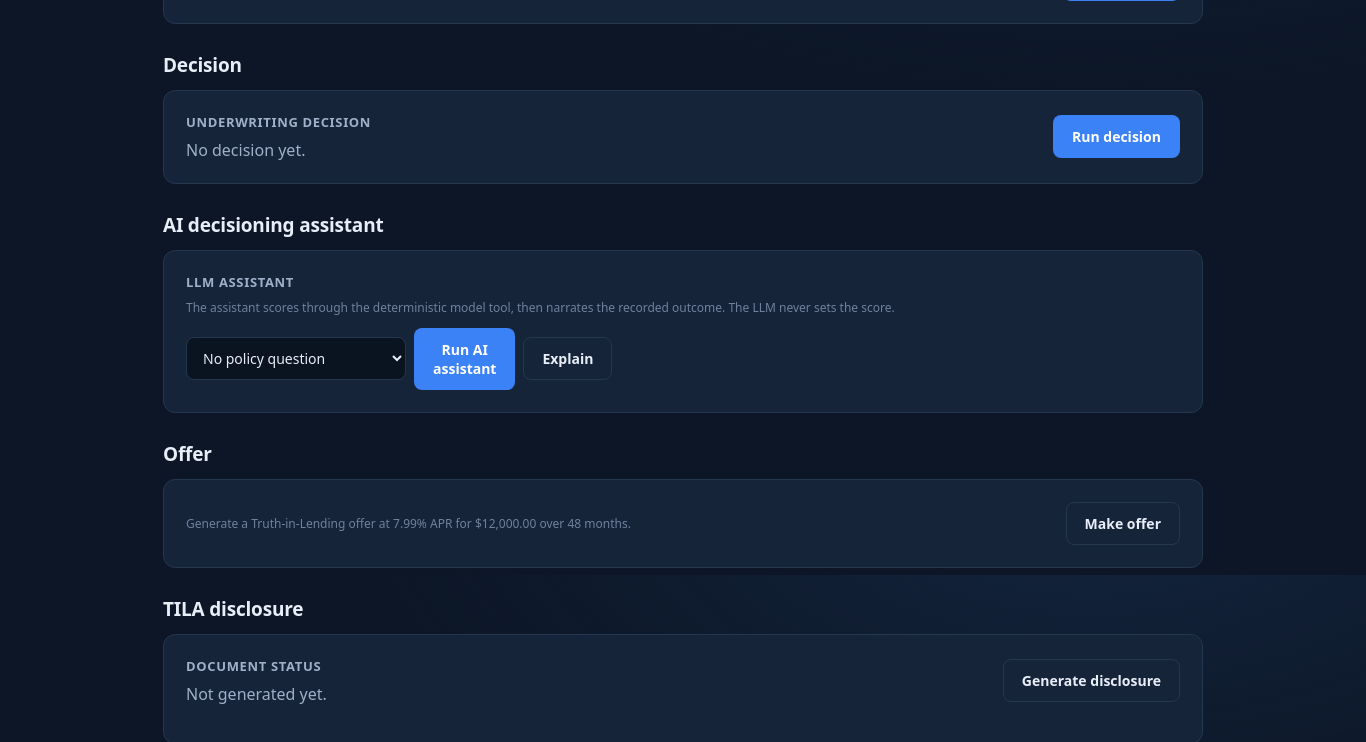
Test: underwriting detail — assistant panel › clears the assistant card once a manual decision supersedes it
(page scrolled)
// Explain populates the assistant card from the recorded decision.
What coordinates should you click on to do the following:
click the button "Explain"
I would click on:
 (568, 358)
Its box is [523,337,612,380].
(page scrolled)
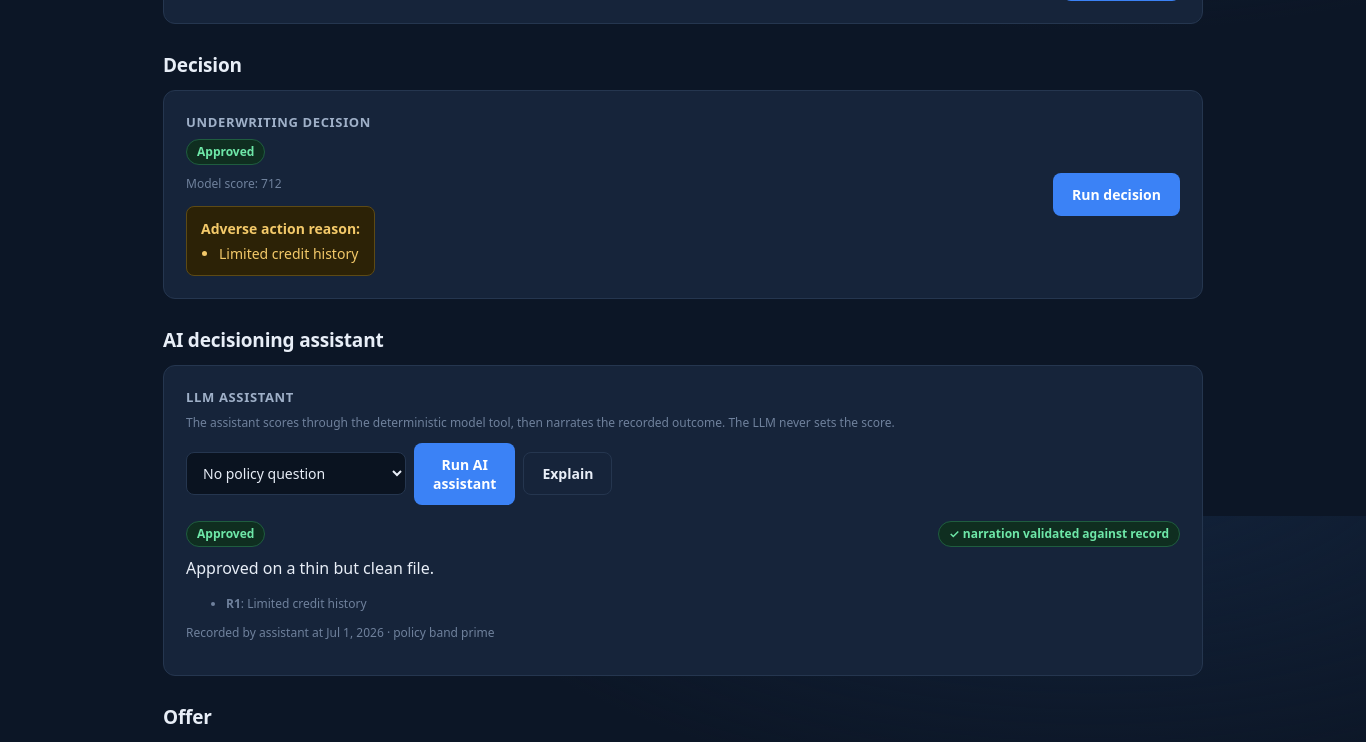
Expected: the text "Approved on a thin but clean file." is shown, [186,556,434,578]
// A manual decision records a NEW event, so the card now describes a superseded one.
What coordinates should you click on to do the following:
click the button "Run decision"
I would click on:
 (1116, 194)
Its box is [1053,172,1180,216].
(page scrolled)
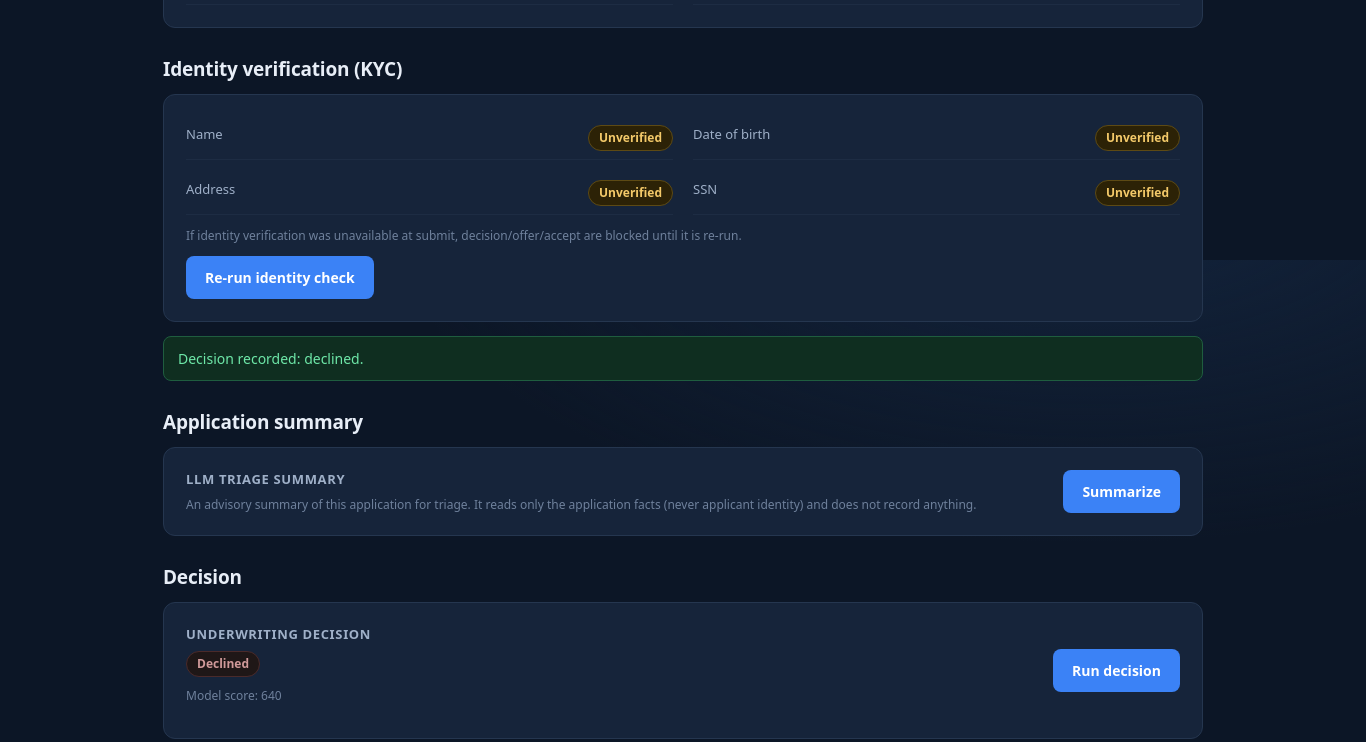
Expected: the text "Decision recorded: declined." is shown, [163,336,1203,380]
Expected: the text "Approved on a thin but clean file." is gone
